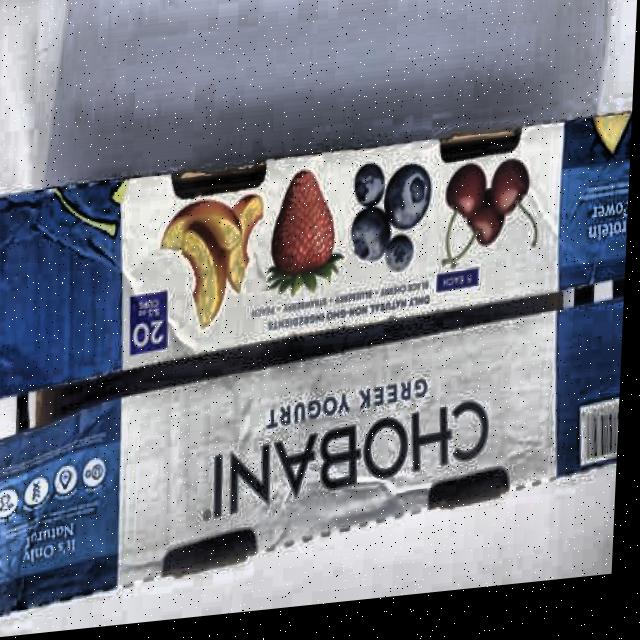cardboard: (0, 118, 632, 628)
